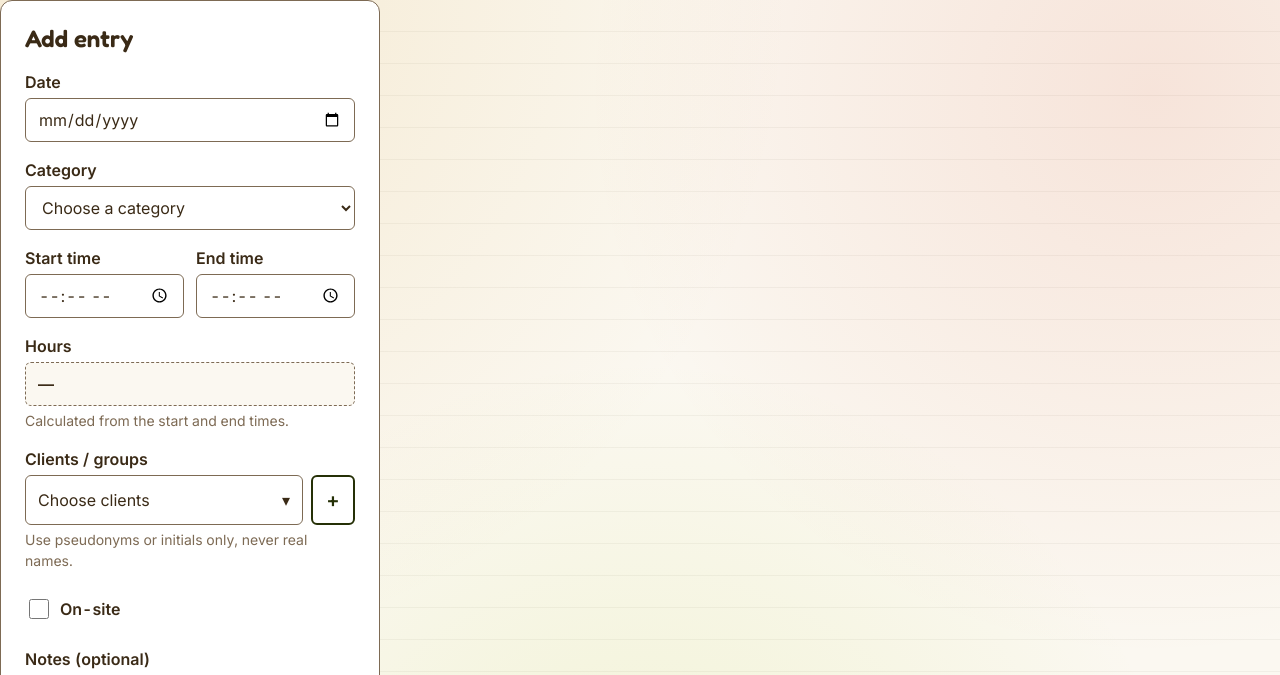
Test case: adding a client with + › Enter saves the client and does not submit the entry form around it
Step 1. Click the button named "Add a new client or group" → (333, 500), box left=311, top=475, right=355, bottom=525
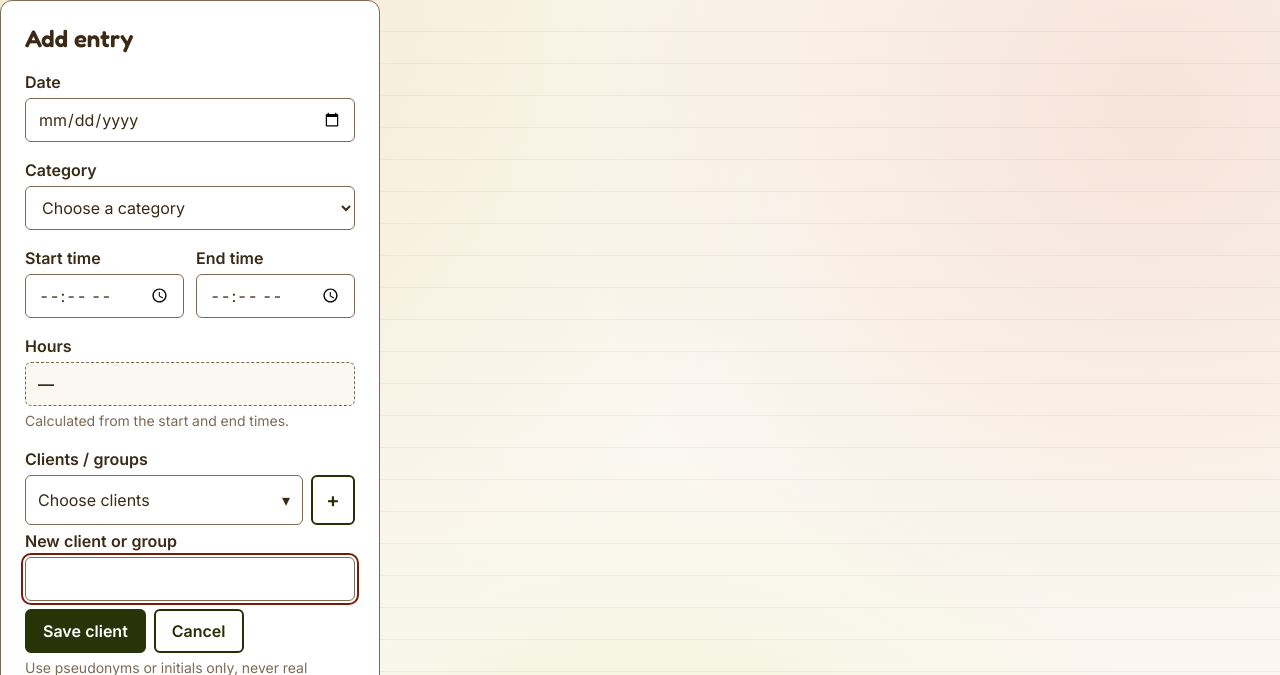
Step 2. Type "E.F." into the field labelled "New client or group" → (190, 579), box left=25, top=557, right=355, bottom=601
Then press Enter
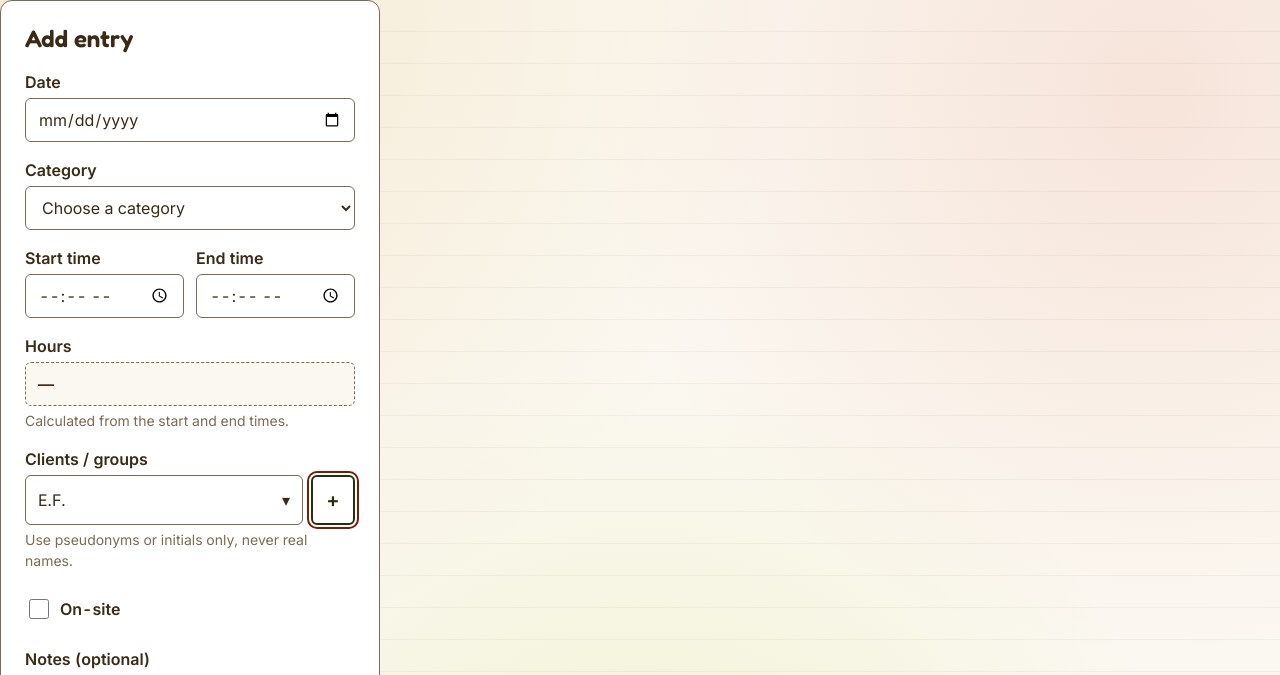
Check: the button named "Clients / groups" reads "E.F.", box left=25, top=475, right=303, bottom=525
